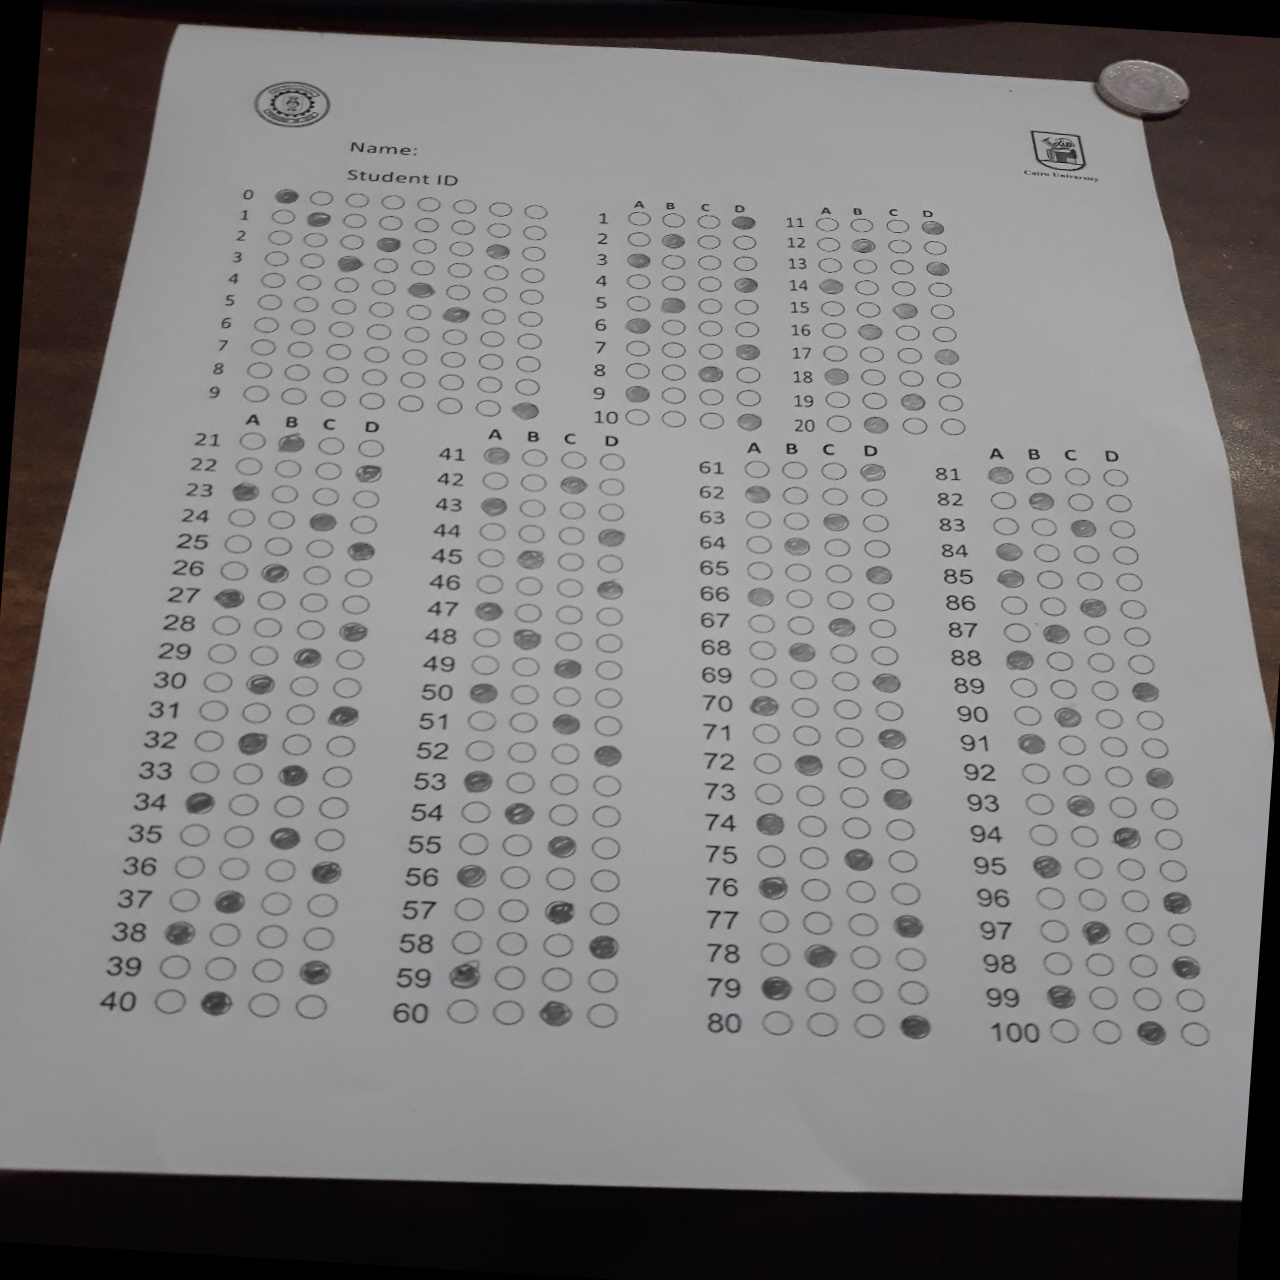not-c: (445, 996, 481, 1024), (248, 955, 284, 983), (891, 945, 927, 972), (761, 941, 797, 968), (245, 992, 281, 1019), (157, 953, 193, 980), (202, 954, 238, 981), (301, 922, 338, 949), (309, 825, 346, 852), (757, 908, 791, 937), (804, 1010, 839, 1037), (758, 1009, 794, 1036), (804, 976, 839, 1003), (850, 978, 885, 1005), (847, 944, 883, 971), (888, 879, 924, 906), (844, 876, 879, 903), (798, 874, 833, 901), (796, 844, 831, 871), (154, 988, 189, 1015), (256, 922, 291, 949), (207, 922, 243, 949), (304, 892, 339, 919), (263, 856, 298, 883), (216, 855, 251, 881), (172, 852, 207, 879), (177, 821, 212, 847), (222, 823, 257, 850), (896, 978, 930, 1005), (897, 1015, 931, 1042), (799, 908, 833, 935), (845, 911, 879, 938), (883, 813, 917, 840), (838, 813, 872, 840), (794, 779, 828, 806), (496, 896, 530, 922), (449, 930, 483, 956), (491, 964, 525, 990), (585, 965, 619, 992), (491, 998, 525, 1024), (294, 993, 328, 1020), (166, 886, 200, 913), (256, 888, 290, 915), (322, 733, 356, 760), (238, 697, 272, 724), (282, 699, 316, 726), (332, 644, 366, 670), (292, 617, 326, 644), (297, 588, 331, 615), (338, 590, 372, 617), (833, 751, 869, 777), (1176, 1020, 1208, 1047), (1090, 1017, 1123, 1044), (1049, 1017, 1082, 1044), (747, 663, 779, 690), (452, 896, 485, 922), (305, 535, 338, 561), (1087, 983, 1121, 1009), (796, 812, 830, 838), (753, 779, 787, 805), (838, 782, 872, 808), (876, 755, 910, 781), (461, 737, 495, 763), (586, 899, 620, 925), (495, 931, 529, 956), (280, 730, 314, 756), (198, 697, 232, 723), (329, 672, 363, 697), (200, 667, 234, 693), (253, 587, 287, 613), (217, 556, 251, 581), (222, 529, 256, 554), (263, 533, 297, 559), (755, 842, 787, 869), (590, 801, 621, 828), (1026, 822, 1058, 847), (1069, 855, 1102, 880), (1040, 949, 1073, 975), (1084, 952, 1117, 978), (1129, 986, 1162, 1012), (788, 693, 821, 719), (783, 584, 816, 610), (549, 770, 581, 796), (456, 830, 489, 856), (499, 833, 532, 859), (499, 864, 532, 890), (586, 1001, 619, 1027), (272, 794, 305, 819), (232, 761, 265, 787), (320, 764, 353, 790), (251, 613, 284, 639), (210, 612, 243, 638), (299, 561, 332, 587), (1067, 825, 1101, 850), (1114, 856, 1148, 880), (539, 932, 573, 956), (539, 966, 573, 990), (188, 758, 222, 783), (192, 728, 226, 753), (246, 642, 280, 667), (267, 505, 301, 530), (554, 576, 585, 602), (1148, 795, 1179, 821), (1107, 794, 1138, 819), (1165, 922, 1197, 948), (886, 847, 918, 873), (751, 750, 783, 776), (866, 615, 898, 641), (866, 588, 898, 614), (826, 585, 858, 611), (592, 713, 624, 738), (503, 770, 535, 796), (591, 771, 622, 797), (588, 835, 620, 860), (229, 790, 260, 816), (341, 565, 373, 591), (1152, 828, 1185, 852), (1156, 857, 1189, 881), (1033, 885, 1065, 910), (1074, 887, 1107, 912), (1118, 888, 1151, 913), (1122, 921, 1155, 946), (1125, 953, 1158, 978), (1173, 987, 1206, 1012), (832, 723, 865, 748), (828, 696, 860, 721), (869, 644, 901, 668), (747, 636, 779, 661), (590, 867, 622, 892), (543, 866, 576, 891), (316, 794, 349, 818), (286, 673, 319, 697), (350, 511, 383, 536), (791, 722, 825, 745), (206, 642, 240, 666), (549, 802, 579, 828), (459, 798, 490, 824), (1023, 791, 1055, 816), (1039, 918, 1070, 942), (750, 721, 782, 745), (874, 697, 906, 722), (789, 667, 821, 692), (828, 669, 859, 694), (784, 613, 816, 638), (237, 428, 268, 452), (272, 456, 304, 481), (268, 481, 300, 505), (353, 433, 384, 457), (828, 640, 860, 663), (859, 511, 892, 535), (819, 535, 852, 558), (549, 742, 581, 765), (1101, 491, 1135, 513), (268, 481, 299, 505), (316, 433, 347, 457), (350, 484, 381, 509), (241, 380, 272, 404), (246, 333, 277, 358), (998, 593, 1029, 617), (1060, 763, 1091, 787), (817, 483, 849, 506), (554, 604, 586, 627), (554, 550, 586, 573), (556, 523, 587, 546), (479, 469, 511, 492), (517, 496, 549, 519), (476, 545, 508, 568), (510, 654, 542, 678), (312, 484, 343, 508), (312, 458, 343, 482), (243, 356, 274, 380), (1107, 518, 1139, 540), (1121, 624, 1153, 646), (1139, 737, 1172, 760), (859, 538, 892, 560), (779, 483, 812, 505), (556, 498, 588, 520), (468, 654, 501, 676), (508, 683, 540, 706), (234, 454, 264, 478), (1107, 545, 1141, 566), (1133, 710, 1167, 731), (1037, 593, 1068, 617), (1096, 734, 1126, 757), (1058, 733, 1089, 756), (745, 508, 776, 531), (553, 629, 584, 653), (518, 520, 549, 544), (472, 627, 503, 651), (506, 741, 537, 764), (226, 504, 257, 527), (1112, 570, 1144, 592), (1124, 653, 1156, 675), (1022, 463, 1054, 485), (1069, 542, 1101, 564), (1080, 622, 1111, 645), (1047, 678, 1078, 700), (1094, 708, 1125, 730), (1020, 762, 1051, 784), (822, 561, 853, 584), (779, 509, 811, 531), (857, 486, 888, 509), (591, 658, 622, 680), (557, 448, 588, 470), (517, 471, 549, 493), (506, 710, 538, 733), (359, 365, 390, 387), (1098, 465, 1131, 486), (1115, 598, 1148, 619), (1060, 464, 1092, 485), (983, 489, 1016, 510), (1028, 516, 1061, 537), (990, 513, 1023, 535), (743, 535, 776, 556), (550, 685, 583, 706), (1001, 621, 1032, 644), (1085, 649, 1116, 672), (781, 560, 811, 583), (819, 459, 850, 482), (776, 458, 806, 481), (742, 458, 772, 481), (597, 450, 627, 472), (593, 685, 624, 707), (518, 445, 549, 468), (477, 520, 508, 543), (513, 574, 544, 597), (512, 600, 543, 622), (372, 252, 402, 274), (1064, 490, 1096, 511), (1035, 568, 1067, 590), (1088, 679, 1119, 700), (1007, 676, 1039, 697), (1012, 704, 1043, 726), (1101, 765, 1132, 787), (467, 710, 498, 731), (253, 291, 285, 312), (285, 316, 316, 338), (326, 316, 358, 338), (747, 612, 776, 634), (595, 475, 625, 497), (595, 552, 625, 574), (594, 632, 624, 654), (1044, 649, 1075, 670), (593, 501, 624, 522), (472, 574, 503, 595), (259, 268, 290, 290), (293, 271, 324, 292), (379, 191, 409, 212), (1074, 571, 1105, 591), (1033, 542, 1064, 561), (264, 229, 295, 248), (261, 248, 293, 268), (282, 360, 314, 380), (290, 292, 321, 312), (294, 248, 326, 268), (298, 229, 329, 248), (322, 341, 354, 361), (321, 365, 353, 384), (744, 560, 772, 583), (595, 605, 624, 627), (358, 389, 387, 410), (624, 292, 653, 313), (624, 270, 653, 291), (733, 318, 762, 339), (266, 207, 297, 227), (280, 384, 311, 404), (286, 338, 316, 358), (328, 295, 359, 315), (365, 321, 395, 341), (474, 399, 504, 418), (622, 360, 653, 380), (250, 314, 281, 333), (304, 188, 335, 206), (318, 389, 349, 408), (363, 343, 392, 365), (370, 275, 399, 297), (377, 213, 406, 234), (859, 366, 887, 387), (939, 415, 967, 436), (367, 298, 396, 318), (622, 338, 652, 358), (625, 229, 654, 248), (626, 205, 655, 225), (733, 365, 762, 384), (434, 396, 464, 415), (394, 394, 424, 413), (853, 274, 880, 295), (437, 373, 465, 393), (731, 297, 760, 316), (933, 369, 961, 389), (476, 329, 505, 348), (511, 377, 540, 396), (476, 352, 505, 370), (622, 407, 652, 425), (858, 343, 884, 365), (410, 234, 437, 254), (404, 302, 431, 322), (697, 318, 724, 338), (660, 362, 687, 382), (697, 409, 724, 429), (862, 390, 888, 410), (896, 345, 922, 365), (937, 392, 964, 411), (899, 415, 926, 435), (341, 190, 372, 207), (339, 211, 369, 229), (485, 200, 513, 219), (523, 200, 551, 219), (520, 224, 549, 243), (411, 215, 440, 233), (445, 237, 474, 256), (519, 244, 547, 263), (444, 282, 472, 301), (401, 325, 429, 343), (440, 327, 468, 346), (440, 349, 468, 368), (813, 234, 842, 253), (813, 256, 842, 274), (818, 298, 846, 316), (399, 347, 428, 365), (475, 376, 504, 394), (824, 415, 853, 433), (659, 338, 685, 358), (661, 384, 687, 404), (697, 386, 723, 406), (735, 386, 761, 406), (414, 195, 441, 213), (443, 260, 470, 279), (409, 257, 436, 275), (516, 309, 543, 328), (515, 331, 542, 349), (658, 318, 685, 336), (821, 343, 847, 362), (855, 299, 881, 318), (883, 215, 910, 233), (886, 236, 913, 254), (896, 368, 922, 387), (333, 277, 363, 293), (481, 287, 509, 305), (517, 286, 545, 304), (513, 354, 542, 372), (397, 369, 425, 387), (658, 211, 686, 229), (731, 254, 760, 272), (731, 232, 760, 250), (811, 215, 839, 232), (819, 321, 847, 339), (823, 390, 851, 408), (852, 256, 880, 273), (925, 280, 953, 298), (888, 279, 917, 297), (696, 341, 722, 360), (659, 409, 685, 428), (893, 324, 919, 342), (931, 324, 956, 342), (338, 233, 367, 250), (451, 197, 478, 215), (486, 222, 513, 239), (447, 217, 474, 234), (518, 265, 545, 282), (482, 263, 509, 280), (481, 307, 508, 325), (847, 216, 874, 233), (927, 301, 954, 319), (696, 275, 722, 293), (696, 297, 722, 314), (920, 238, 947, 254), (887, 258, 914, 274), (694, 215, 722, 230), (696, 233, 724, 248), (695, 253, 723, 268), (660, 252, 686, 268), (660, 274, 686, 290)
taken-c: (195, 986, 237, 1021), (1107, 823, 1146, 852), (797, 941, 837, 971), (846, 1012, 886, 1041), (464, 680, 504, 709), (552, 470, 592, 499), (232, 727, 272, 756), (535, 999, 573, 1028), (888, 914, 928, 942), (760, 973, 799, 1001), (583, 934, 622, 962), (545, 832, 585, 860), (450, 860, 490, 888), (502, 799, 542, 828), (456, 764, 496, 792), (588, 740, 628, 768), (545, 712, 585, 740), (504, 622, 544, 651), (468, 595, 508, 624), (476, 492, 516, 520), (270, 428, 309, 456), (227, 474, 267, 502), (304, 506, 343, 535), (256, 560, 295, 588), (338, 621, 377, 649), (240, 670, 280, 699), (307, 859, 347, 887), (298, 956, 338, 985), (542, 899, 580, 927), (551, 653, 590, 681), (511, 543, 550, 571), (348, 458, 387, 486), (340, 537, 379, 565), (274, 763, 313, 791), (177, 787, 216, 815), (210, 887, 248, 915), (322, 702, 361, 730), (156, 920, 195, 948), (367, 231, 406, 259), (445, 964, 485, 990), (588, 576, 628, 602), (591, 527, 631, 554), (207, 583, 247, 610), (290, 644, 329, 670), (266, 828, 306, 855), (508, 399, 543, 425), (844, 847, 880, 873), (753, 874, 789, 900), (401, 275, 435, 302), (1046, 986, 1081, 1012), (816, 508, 851, 533), (747, 584, 782, 610), (877, 727, 912, 753), (791, 754, 826, 779), (1131, 1015, 1167, 1040), (1029, 852, 1065, 877), (992, 539, 1028, 564), (993, 568, 1029, 593), (1065, 794, 1099, 819), (1130, 680, 1165, 704), (1169, 954, 1204, 979), (1080, 919, 1115, 944), (1015, 731, 1050, 756), (1001, 648, 1036, 673), (1065, 513, 1101, 538), (1022, 488, 1057, 512), (855, 459, 890, 484), (860, 560, 896, 585), (744, 481, 779, 505), (823, 614, 858, 639), (781, 640, 816, 665), (877, 784, 912, 809), (753, 810, 788, 835), (440, 302, 472, 328), (1143, 764, 1177, 789), (1051, 704, 1085, 729), (1039, 622, 1073, 647), (1074, 594, 1108, 619), (865, 669, 899, 694), (749, 696, 783, 721), (270, 183, 304, 207), (481, 239, 515, 264), (656, 231, 692, 254), (1160, 892, 1194, 915), (983, 464, 1017, 488), (622, 309, 656, 333), (730, 409, 764, 433), (731, 340, 765, 363), (928, 343, 962, 367), (482, 443, 511, 470), (301, 207, 336, 230), (625, 247, 660, 270), (730, 207, 765, 230), (817, 363, 852, 386), (860, 413, 893, 436), (659, 294, 693, 316), (728, 274, 762, 297), (846, 233, 880, 256), (853, 321, 887, 343), (896, 389, 930, 411), (915, 256, 949, 278), (818, 273, 847, 299), (887, 301, 920, 324), (917, 216, 949, 238), (332, 254, 366, 275), (693, 365, 727, 386), (622, 382, 651, 406)
